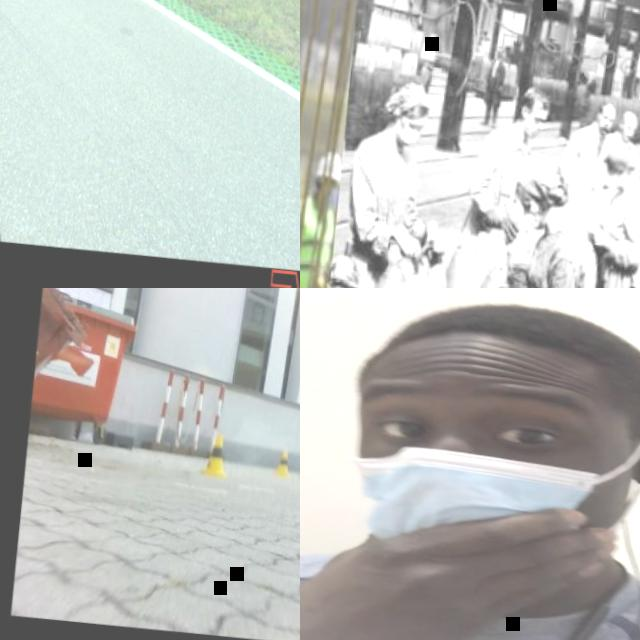Hardhat: (311, 149, 340, 185)
Mask: (350, 440, 607, 563), (395, 126, 419, 148), (522, 210, 544, 231), (322, 186, 337, 211), (524, 124, 541, 140), (603, 174, 619, 190)
NO-Hardhat: (357, 288, 640, 414), (513, 160, 568, 203), (385, 81, 433, 118), (599, 144, 638, 175), (518, 86, 552, 112), (596, 101, 618, 119), (620, 110, 637, 125), (425, 32, 439, 40), (494, 47, 505, 55)
NO-Safety Vest: (300, 547, 640, 640), (367, 138, 423, 223), (518, 225, 585, 288), (597, 182, 640, 271), (486, 131, 533, 204), (574, 130, 610, 186), (486, 62, 505, 84), (608, 135, 630, 151), (421, 46, 438, 66)
Person: (300, 288, 640, 640), (342, 77, 443, 261), (470, 154, 600, 288), (460, 80, 555, 239), (575, 144, 640, 288), (300, 151, 340, 288), (557, 96, 618, 184), (479, 45, 509, 129), (413, 30, 438, 91), (605, 109, 640, 145)
Safety Cone: (199, 433, 231, 477), (274, 450, 292, 476)
Safety Vest: (300, 200, 333, 288)
